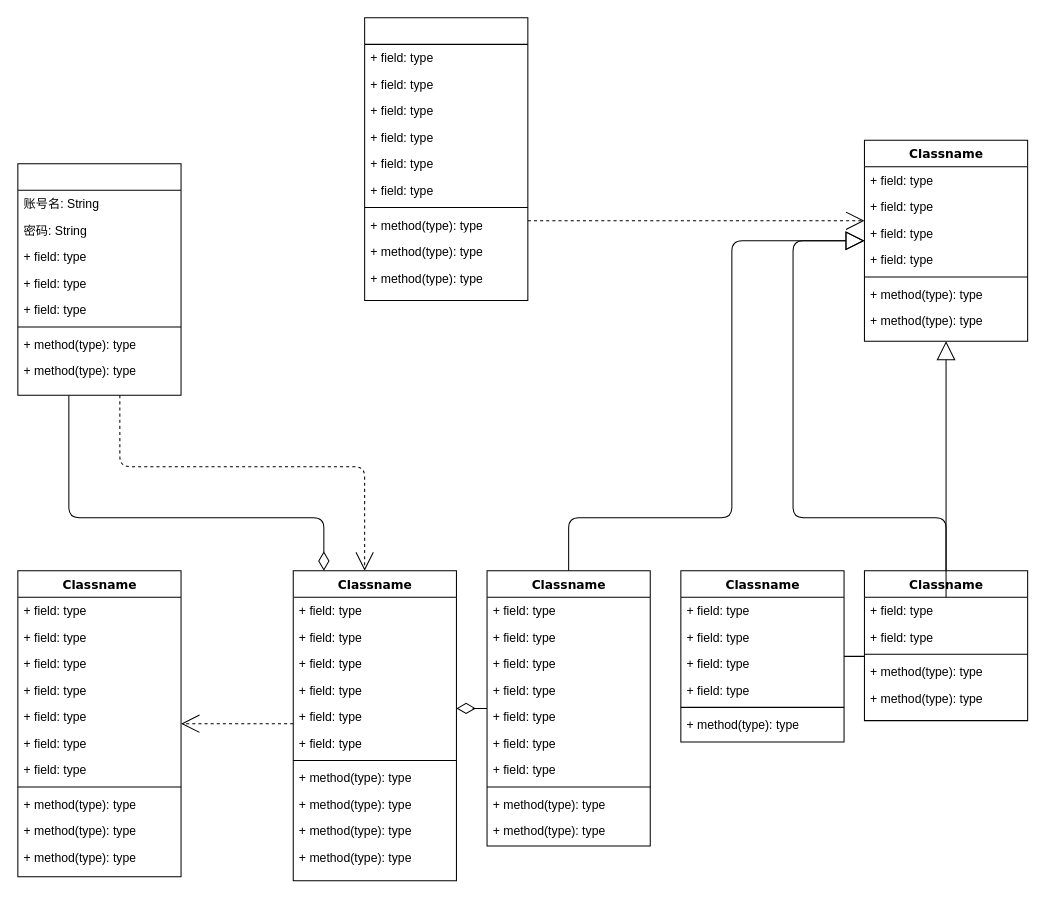
Some shapes in this 1046 by 899 pixel diagram are drawn without their labels. The shapes that lost their labels are listed below. From the top down, each one's box as (x1, y1, x2, y2) in pixels, then its label:
(364, 17, 528, 300): vpn信息
(17, 163, 181, 395): 账号信息
